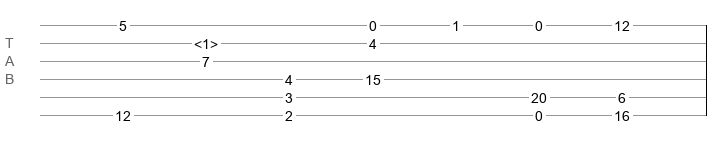0: (369, 18, 377, 28), (535, 18, 543, 28), (535, 108, 543, 118)
1: (452, 18, 460, 28)
12: (115, 108, 131, 118), (614, 18, 630, 28)
15: (365, 72, 381, 82)
16: (614, 108, 630, 118)
2: (285, 108, 293, 118)
20: (531, 90, 547, 100)
3: (285, 90, 293, 100)
4: (285, 72, 293, 82), (369, 36, 377, 46)
5: (119, 18, 127, 28)
6: (618, 90, 626, 100)
7: (202, 54, 210, 64)
harmonic: (194, 36, 218, 46)
